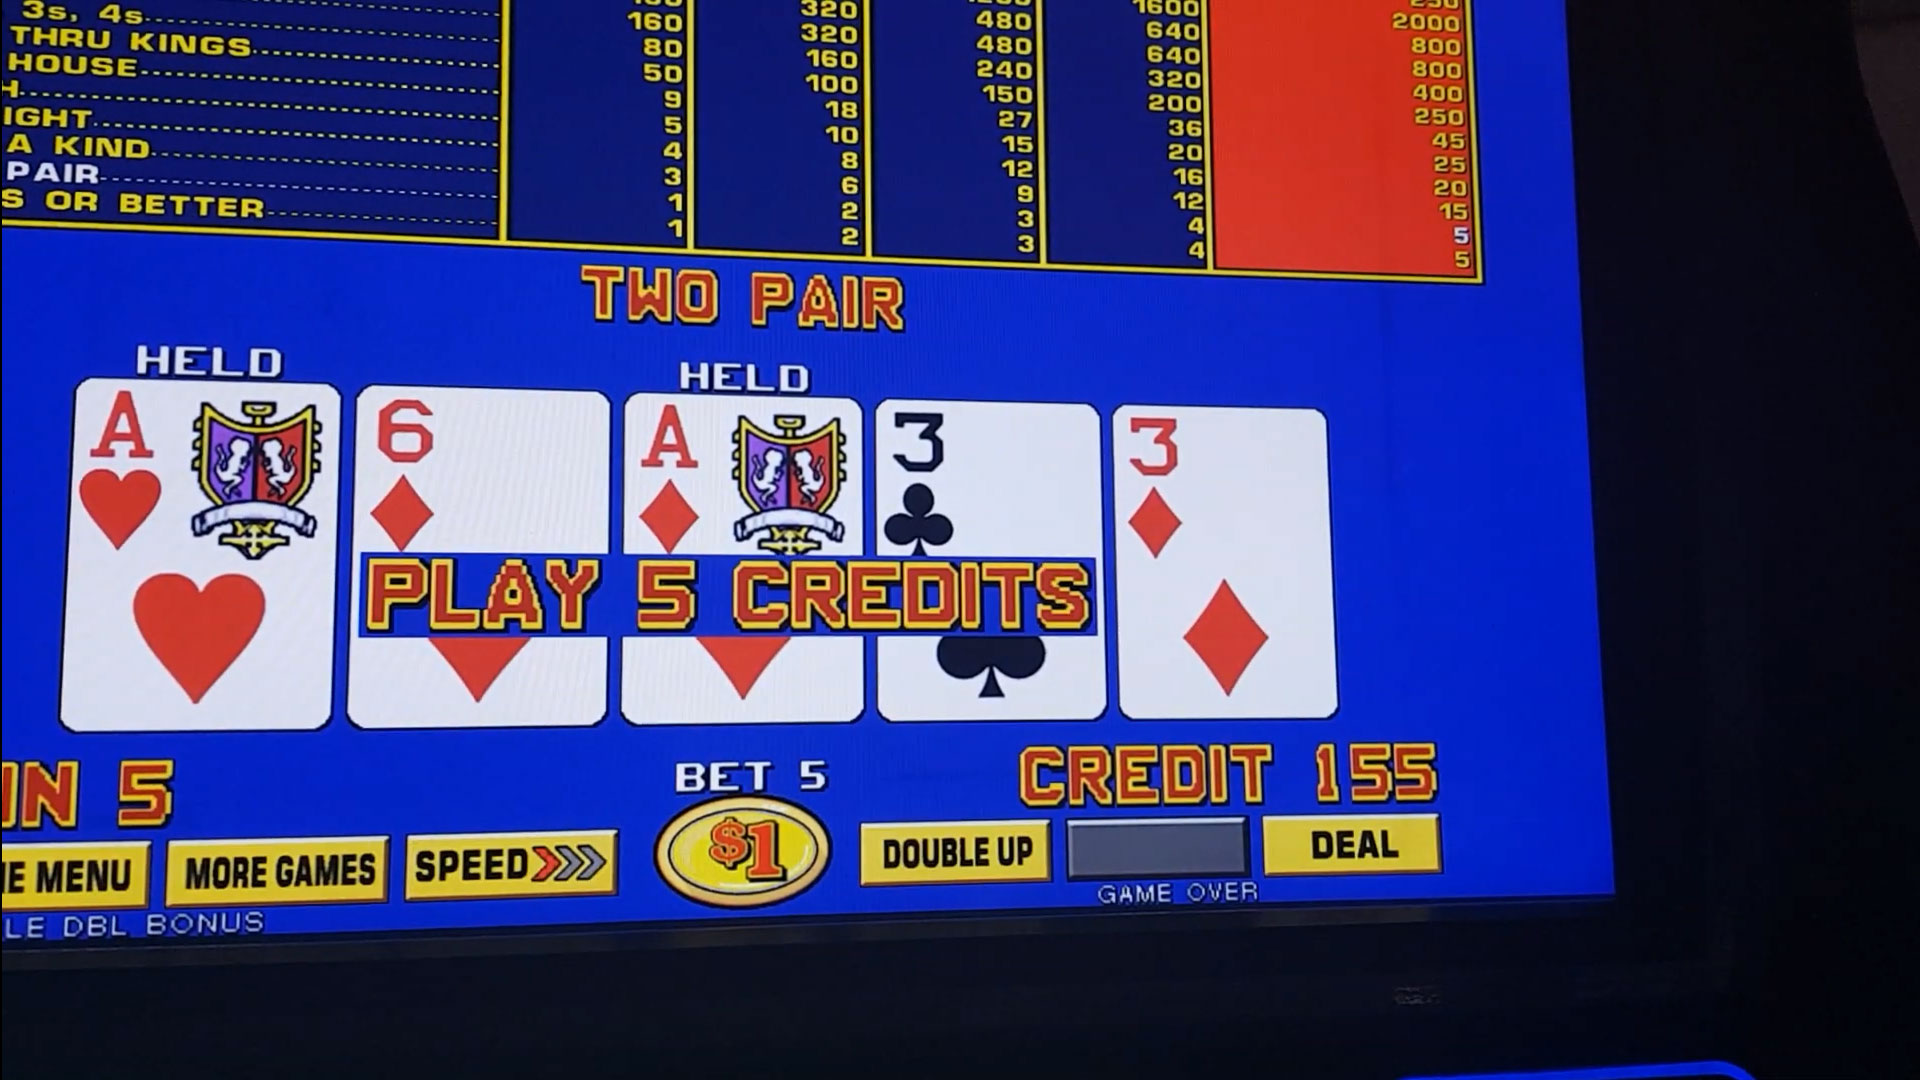C3: (881, 407, 1097, 549)
D3: (1121, 411, 1323, 560)
D6: (357, 394, 605, 549)
DA: (632, 401, 860, 547)
HA: (75, 382, 334, 553)
